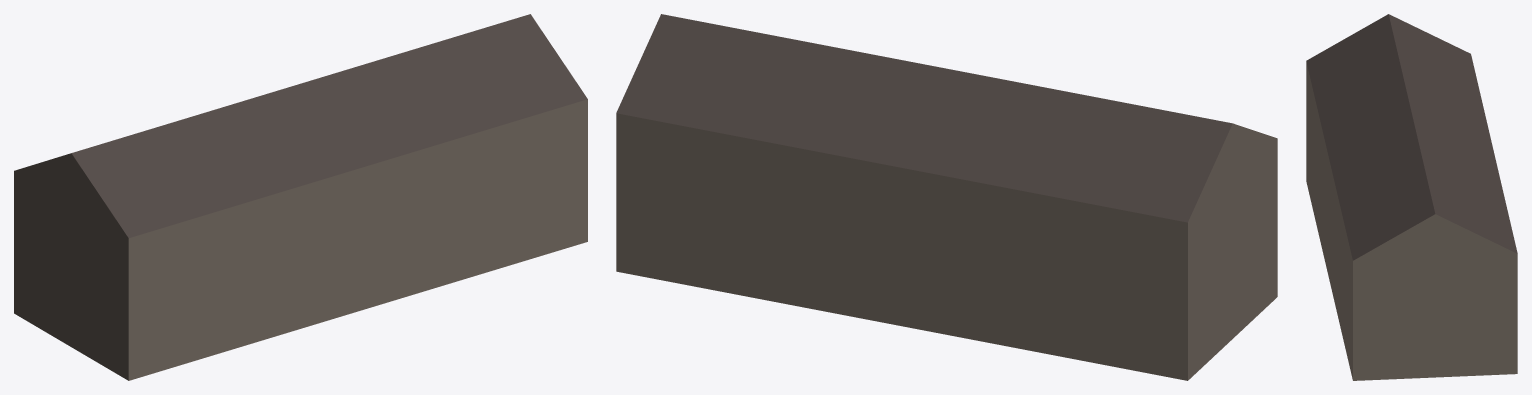
3 views of the same model, side by side, from view 1: azimuth 30°, elevation 25°; view 2: azimuth 150°, elevation 25°; view 3: azimuth 270°, elevation 25° (orthographic). The views are drawn at different scales.
Parts seen in each view (by area): view 1: HP-w369317543; view 2: HP-w369317543; view 3: HP-w369317543.
Boxes of the visible parts, x1=… form: HP-w369317543: x1=14, y1=14, x2=587, y2=380; HP-w369317543: x1=616, y1=14, x2=1277, y2=380; HP-w369317543: x1=1306, y1=14, x2=1517, y2=380.
Bounding box in the file's own units: 22.18 × 8.16 × 9.58.
